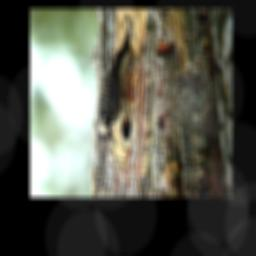Woodpecker: (92, 23, 139, 150)
